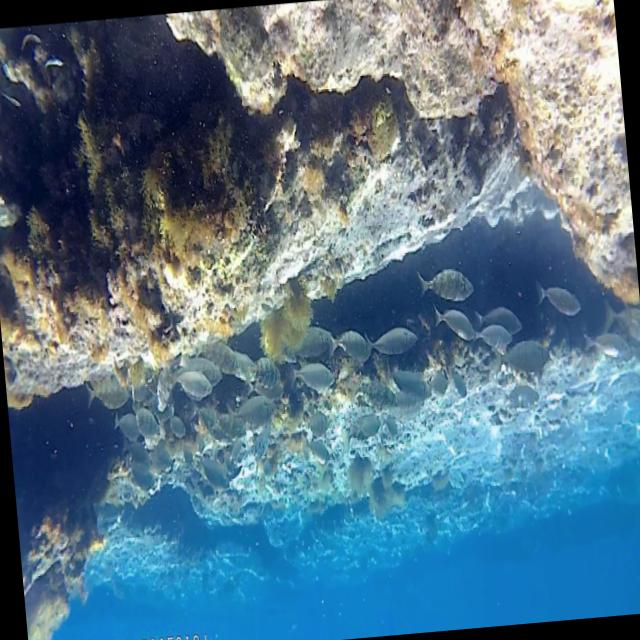Sokar Baligi: (410, 254, 477, 309), (360, 312, 421, 366), (535, 260, 586, 322)
